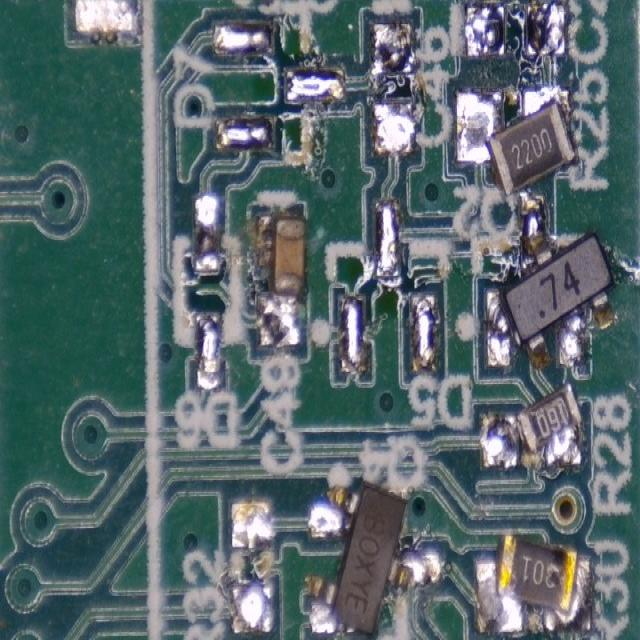Incorrect_installation: (486, 194, 616, 372), (305, 482, 442, 636), (456, 89, 576, 199), (476, 535, 591, 635), (481, 380, 583, 467), (255, 216, 308, 348)
